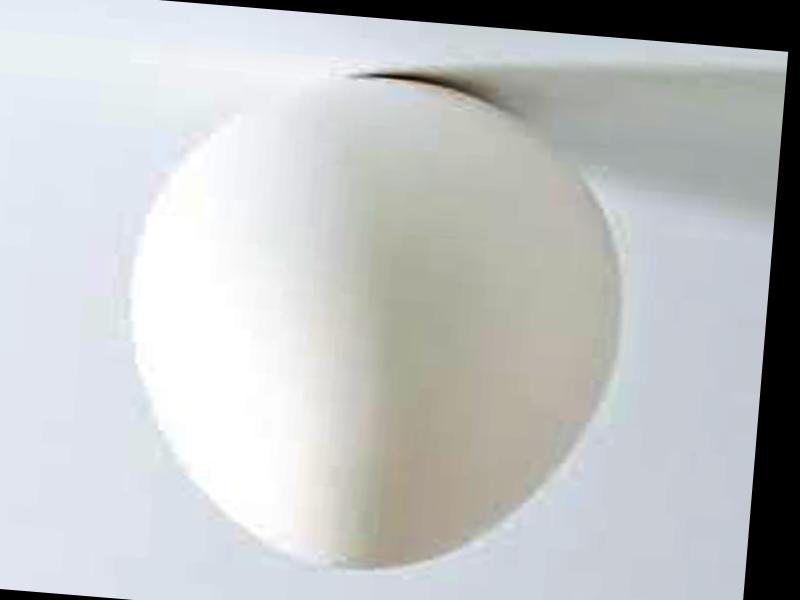Eggs: (111, 58, 634, 591)
